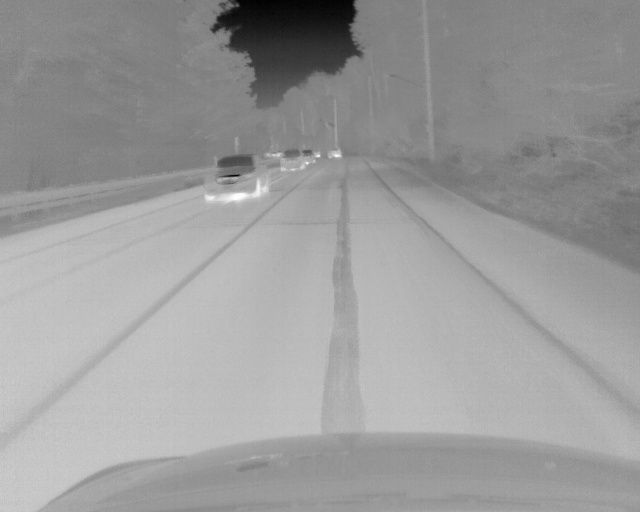car: (203, 154, 271, 203), (278, 149, 304, 172), (303, 149, 316, 167), (327, 146, 342, 159)
